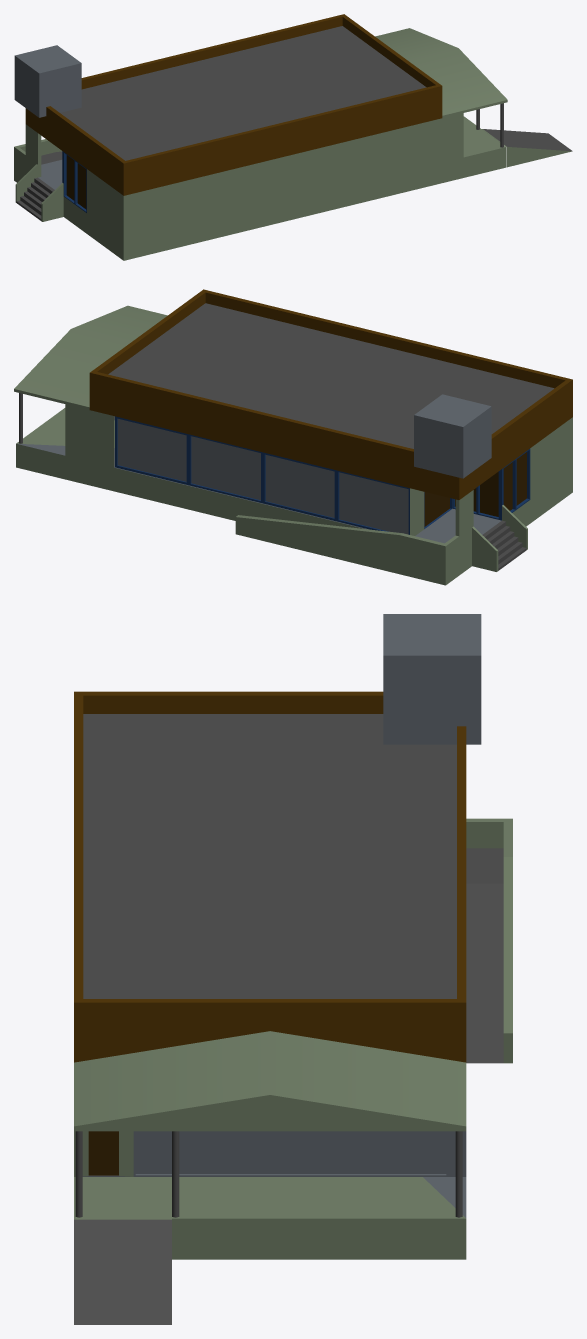
File: store final.fbx
3 renders of one model, top to bottom at view 1: azimuth 30°, elevation 25°; view 2: azimuth 150°, elevation 25°; view 3: azimuth 270°, elevation 25°, orthographic. The views are drawn at different scales.
Visible parts, largest first — view 1: Box007.030; view 2: Box007.030; view 3: Box007.030.
Part boxes in pixels (x1,y1,x2,y2): Box007.030: (14,14,572,260); Box007.030: (14,289,572,585); Box007.030: (74,614,512,1324).
Size of the model in its own units: 281 by 75.76 by 114.
